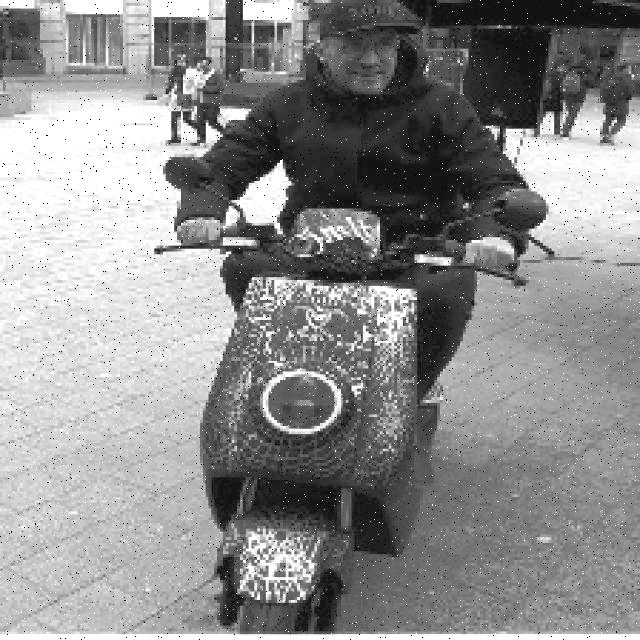Bike: (198, 219, 450, 623)
